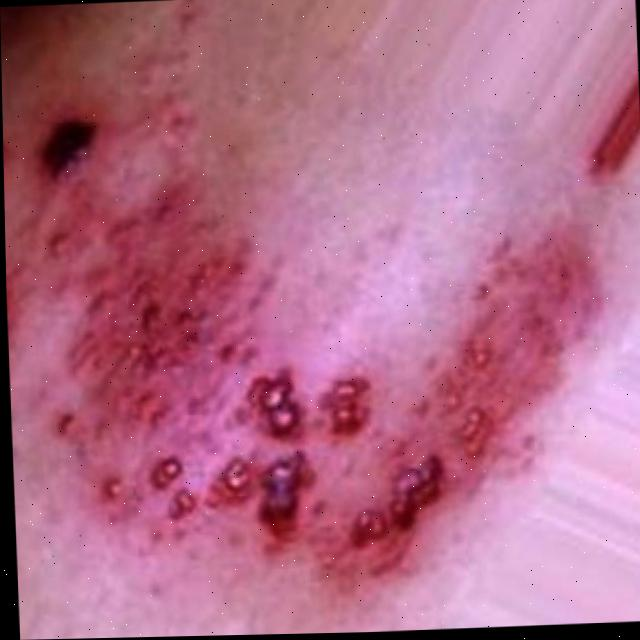Shingles: (0, 0, 608, 611)
